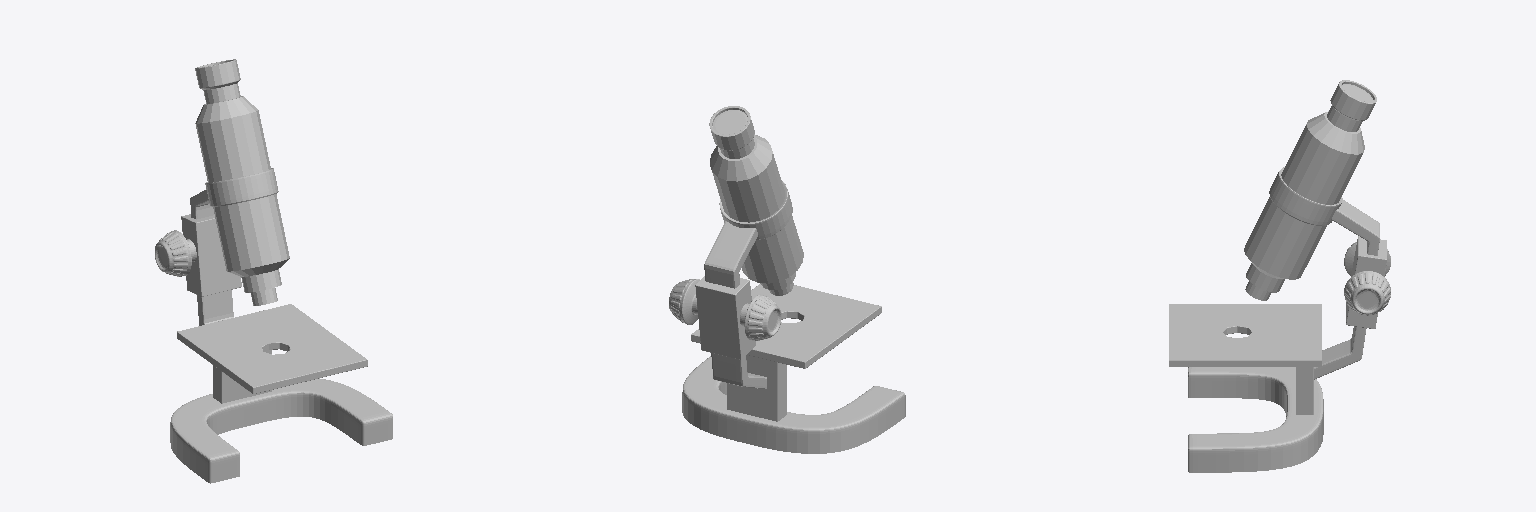
The model's file is microscope.obj.
3 views of the same model, side by side, from view 1: azimuth 30°, elevation 25°; view 2: azimuth 150°, elevation 25°; view 3: azimuth 270°, elevation 25° (orthographic).
Visible parts, largest first — view 1: Circle.016_Circle.012, Plane.023_Plane.017, Cube.009, Cube.010, Circle.017_Circle.015, Plane.024_Plane.020, Circle.018_Circle.016, Cube.008; view 2: Plane.023_Plane.017, Circle.016_Circle.012, Cube.009, Cube.010, Plane.024_Plane.020, Cube.008, Circle.018_Circle.016, Circle.017_Circle.015; view 3: Circle.016_Circle.012, Cube.009, Plane.023_Plane.017, Plane.024_Plane.020, Circle.018_Circle.016, Circle.017_Circle.015, Cube.010, Cube.008.
Boxes of the visible parts, box(x1,y1,x2,y2) form: Circle.016_Circle.012: box(195, 59, 289, 305); Plane.023_Plane.017: box(170, 378, 392, 483); Cube.009: box(177, 304, 367, 393); Cube.010: box(181, 214, 241, 296); Circle.017_Circle.015: box(205, 168, 278, 206); Plane.024_Plane.020: box(190, 190, 233, 325); Circle.018_Circle.016: box(155, 230, 196, 276); Cube.008: box(213, 350, 271, 403); Plane.023_Plane.017: box(682, 356, 905, 453); Circle.016_Circle.012: box(709, 106, 803, 295); Cube.009: box(691, 284, 881, 368); Cube.010: box(695, 276, 755, 359); Plane.024_Plane.020: box(704, 221, 766, 388); Cube.008: box(727, 355, 786, 421); Circle.018_Circle.016: box(669, 279, 781, 340); Circle.017_Circle.015: box(719, 181, 792, 239); Circle.016_Circle.012: box(1244, 80, 1376, 300); Cube.009: box(1169, 304, 1321, 366); Plane.023_Plane.017: box(1188, 367, 1323, 472); Plane.024_Plane.020: box(1314, 200, 1379, 379); Circle.018_Circle.016: box(1344, 242, 1390, 315); Circle.017_Circle.015: box(1269, 167, 1342, 225); Cube.010: box(1346, 236, 1386, 328); Cube.008: box(1296, 367, 1313, 414).
Bounding box in the file's own units: 0.7922 × 1.41 × 0.8259.